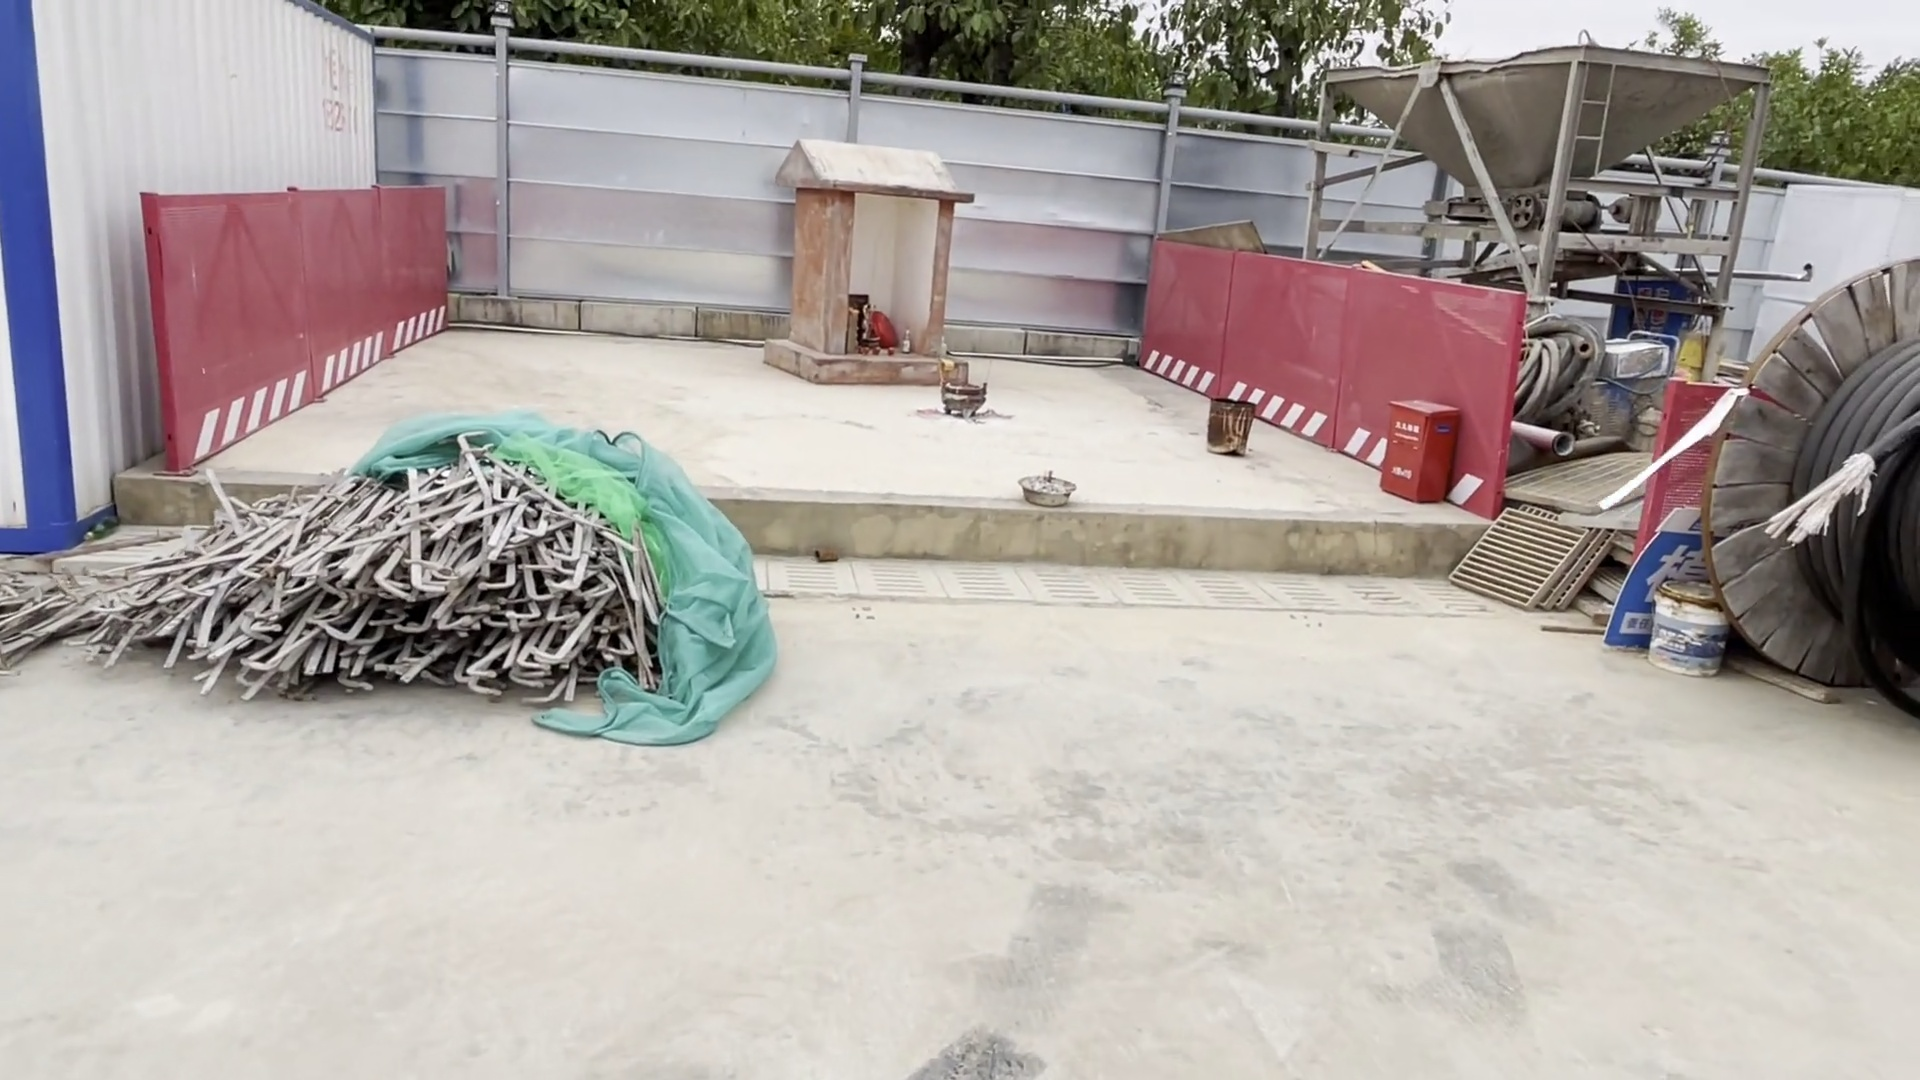fence: (142, 170, 488, 505), (1130, 233, 1520, 520)
